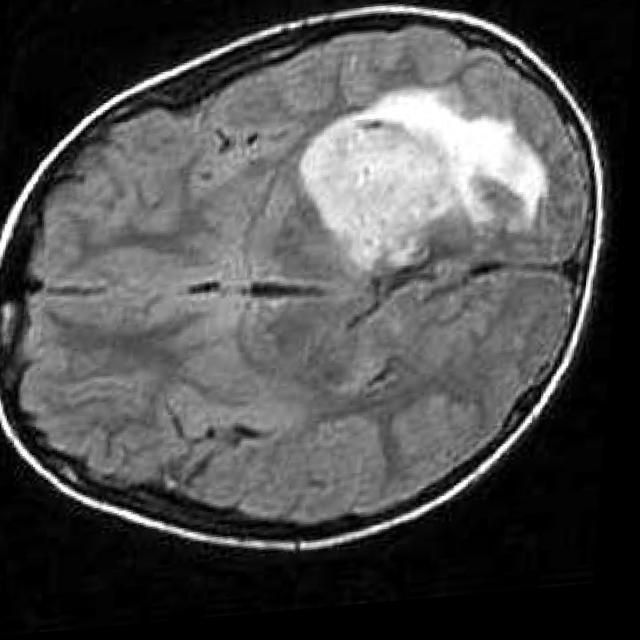Tumor: (302, 100, 550, 280)
